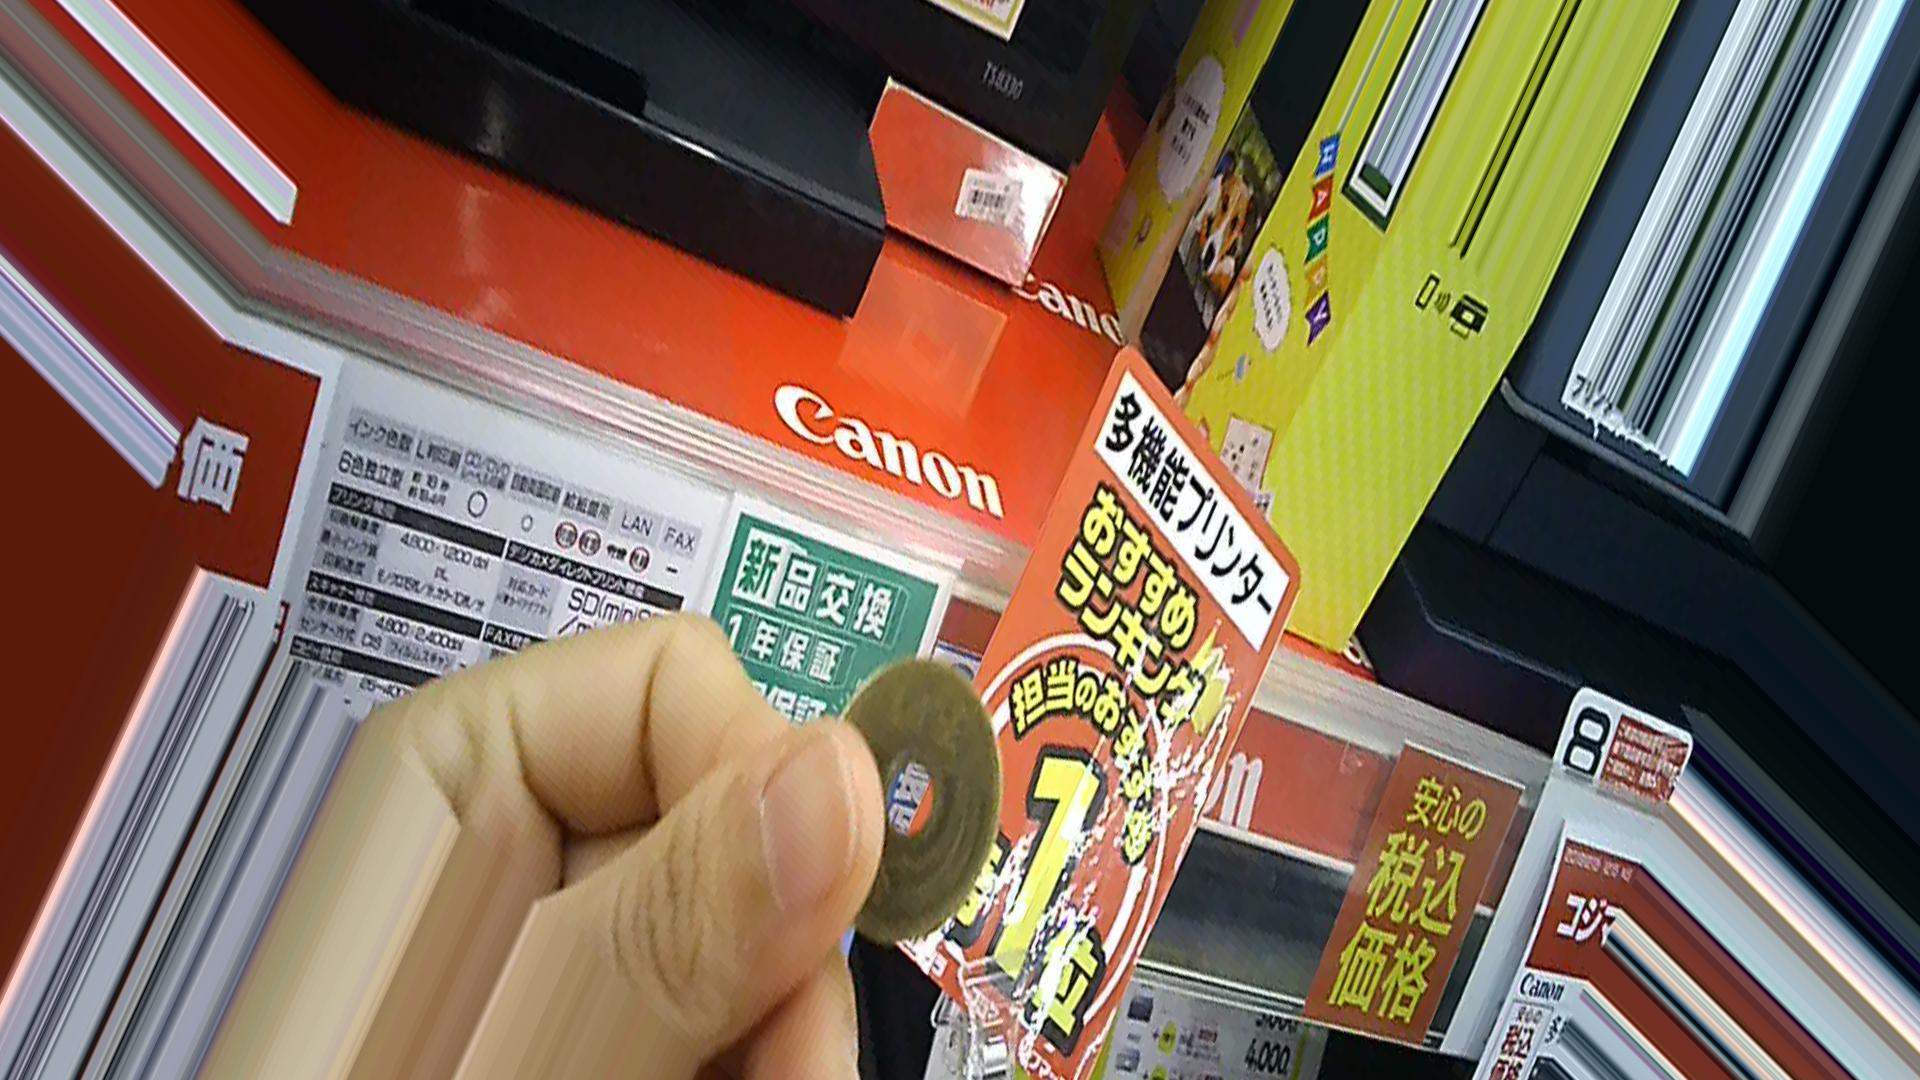5 Yen: (810, 659, 1006, 934)
